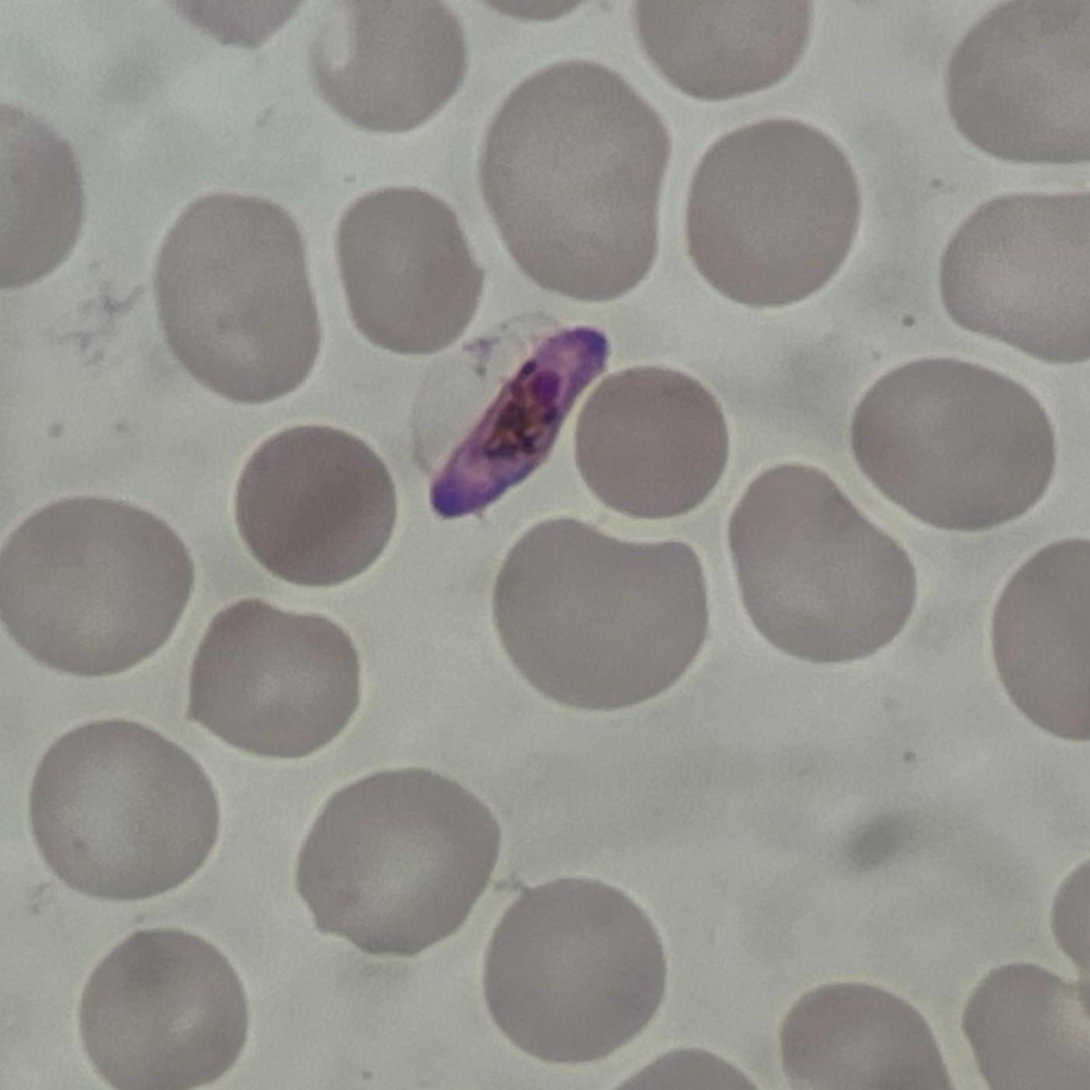Infected: (408, 308, 610, 517)
Uninfected: (480, 61, 666, 301), (494, 514, 711, 715), (297, 768, 500, 959), (731, 463, 915, 663), (154, 191, 321, 407), (847, 358, 1055, 531), (482, 877, 669, 1063), (2, 496, 192, 679), (28, 723, 215, 906), (688, 117, 856, 308), (187, 597, 363, 758), (78, 926, 246, 1089), (941, 193, 1090, 368), (237, 424, 393, 589), (338, 185, 486, 357), (573, 364, 728, 521), (945, 0, 1090, 163), (311, 0, 464, 135), (777, 980, 955, 1090), (634, 0, 808, 101)
